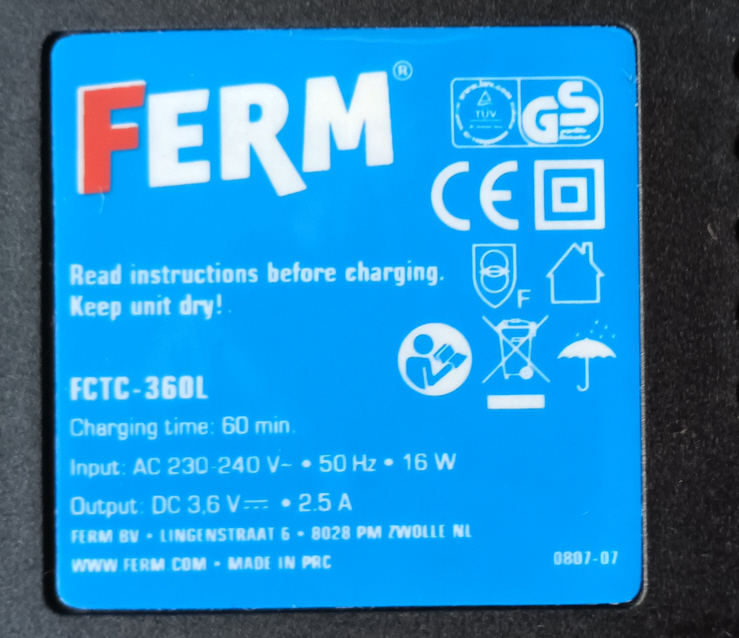p1: (61, 365, 220, 403)
p2: (163, 450, 282, 477)
p3: (315, 446, 377, 475)
p4: (147, 488, 243, 518)
p5: (294, 484, 356, 513)
p6: (543, 536, 624, 571)
p7: (397, 447, 466, 476)
